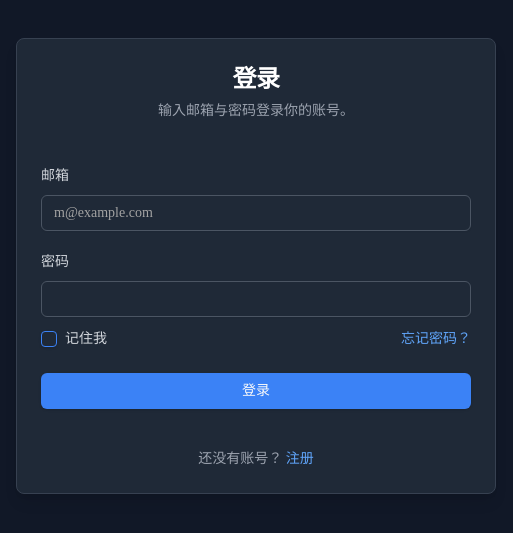
Test: Login Form Component › displays error message if login fails
Type "wrong@example.com" into the field labelled "邮箱" at (256, 213), box left=41, top=195, right=471, bottom=231
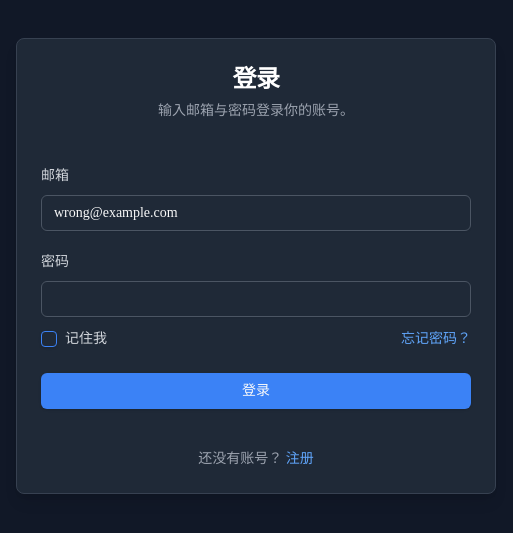
Type "wrongpass" into the password field labelled "密码" at (256, 299), box left=41, top=281, right=471, bottom=317
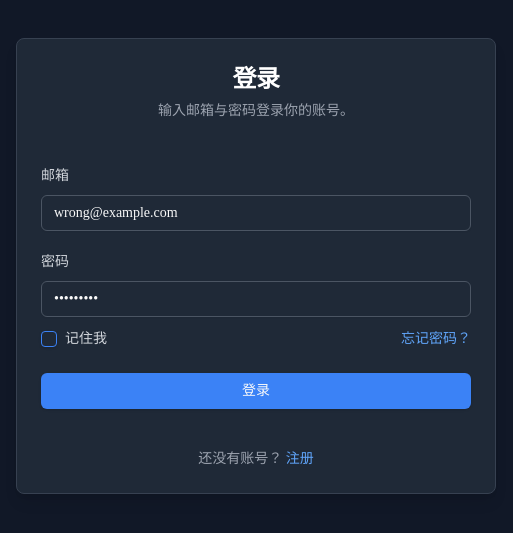
Click the button "登录" at (256, 391), box left=41, top=373, right=471, bottom=409
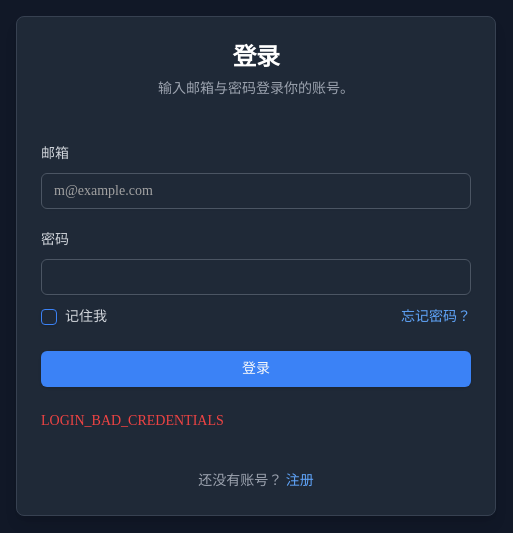
Expected: the text "LOGIN_BAD_CREDENTIALS" is shown, left=41, top=413, right=224, bottom=428
